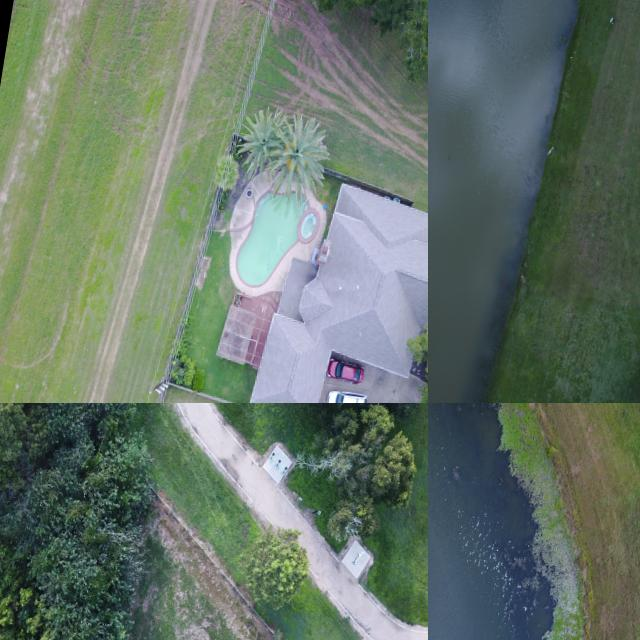fire: (428, 0, 577, 403), (428, 403, 554, 640)
